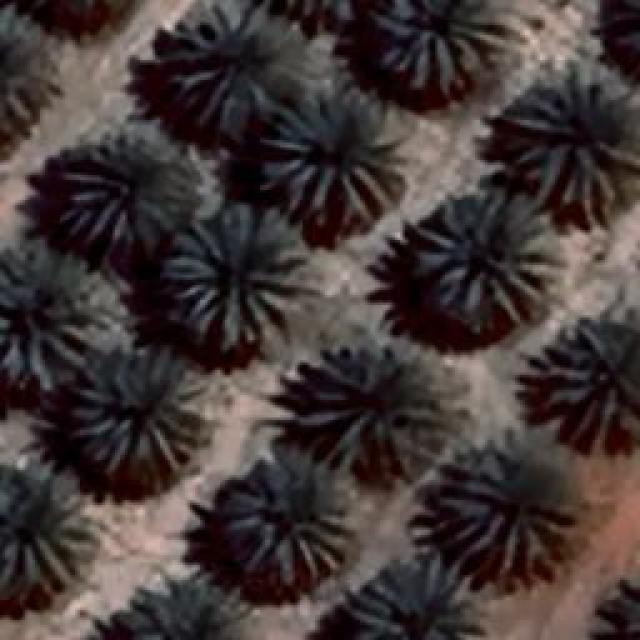PalmTree: (30, 42, 625, 400), (168, 202, 318, 356), (500, 65, 635, 220), (434, 434, 578, 578), (260, 82, 402, 228), (222, 445, 352, 585), (57, 120, 195, 248), (68, 350, 202, 472), (160, 5, 290, 123), (0, 237, 98, 385), (414, 218, 538, 332), (534, 304, 638, 438), (375, 0, 503, 95), (0, 462, 95, 590), (348, 552, 482, 638), (120, 570, 262, 635), (0, 10, 60, 125), (582, 574, 638, 638), (15, 0, 136, 26), (248, 0, 386, 20)
